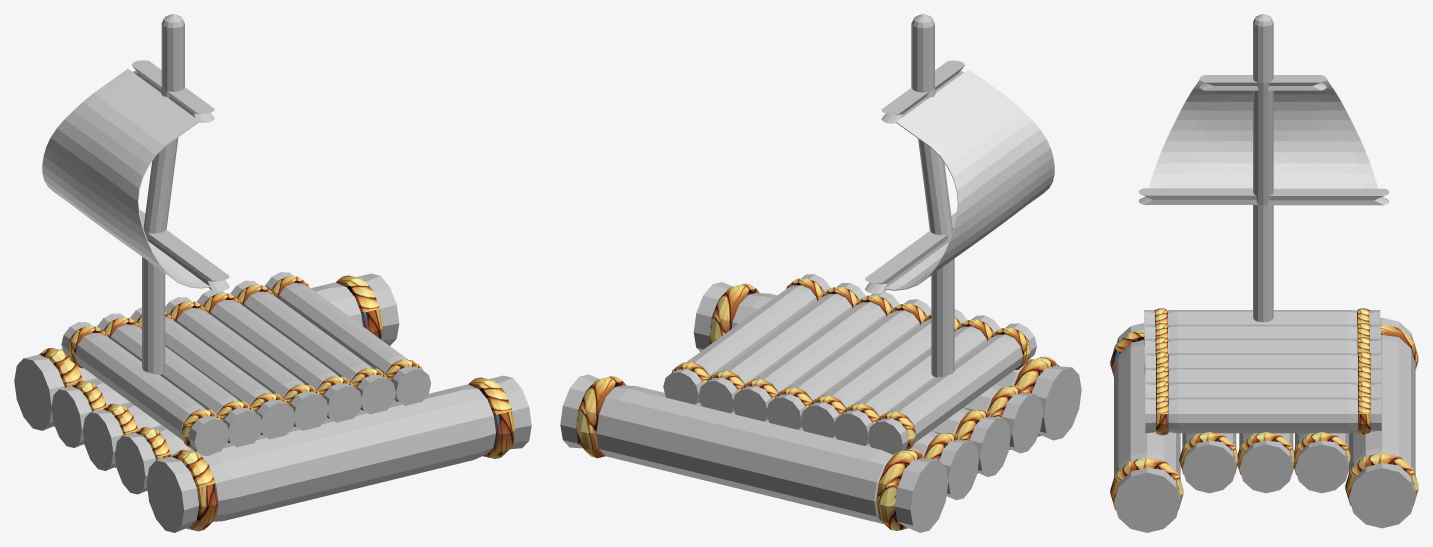
File: JangadaTexturizada.fbx
The picture shows the model from 3 angles, left to right: view 1: azimuth 30°, elevation 25°; view 2: azimuth 150°, elevation 25°; view 3: azimuth 270°, elevation 25°; orthographic projection. The views are drawn at different scales.
Visible parts, largest first — view 1: Circle.005, Plane, Circle, Circle.023, Circle.004, Circle.012, Circle.010, Circle.008, Circle.009, Circle.006, Circle.007, Circle.003 (+2 smaller); view 2: Circle.004, Plane, Circle, Circle.023, Circle.005, Circle.012, Circle.008, Circle.010, Circle.009, Circle.006, Circle.007, Circle.003 (+2 smaller); view 3: Plane, Circle, Circle.004, Circle.005, Circle.012, Circle.007, Circle.010, Circle.008, Circle.009, Circle.006, Circle.023, Circle.003 (+2 smaller).
Part boxes in pixels (x1,y1,x2,y2): Circle.005: (146, 375, 531, 532); Plane: (42, 69, 210, 288); Circle: (132, 14, 229, 374); Circle.023: (61, 322, 229, 455); Circle.004: (14, 273, 399, 430); Circle.012: (265, 272, 431, 405); Circle.010: (230, 280, 395, 414); Circle.008: (165, 297, 328, 430); Circle.009: (196, 289, 361, 422); Circle.006: (97, 313, 261, 447); Circle.007: (130, 307, 295, 439); Circle.003: (115, 400, 395, 494); Circle.004: (560, 374, 948, 532); Plane: (885, 69, 1054, 290); Circle: (865, 14, 964, 377); Circle.023: (868, 323, 1036, 454); Circle.005: (693, 282, 1081, 440); Circle.012: (663, 274, 830, 404); Circle.008: (766, 299, 931, 429); Circle.010: (698, 282, 865, 413); Circle.009: (732, 291, 899, 421); Circle.006: (833, 315, 1000, 445); Circle.007: (801, 309, 966, 437); Circle.003: (963, 384, 1042, 453); Plane: (1149, 79, 1377, 188); Circle: (1138, 14, 1389, 322); Circle.004: (1345, 317, 1418, 528); Circle.005: (1110, 323, 1183, 532); Circle.012: (1145, 396, 1381, 435); Circle.007: (1144, 337, 1380, 373); Circle.010: (1145, 380, 1381, 398); Circle.008: (1145, 351, 1381, 368); Circle.009: (1145, 366, 1381, 383); Circle.006: (1144, 323, 1380, 339); Circle.023: (1144, 308, 1380, 345); Circle.003: (1179, 432, 1237, 493).
Size of the model in its own units: 577 by 707 by 490.
